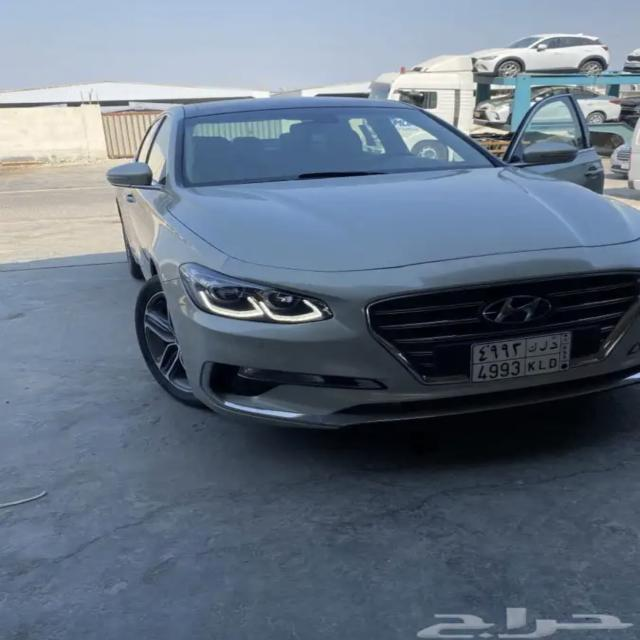license_plate: (470, 331, 572, 378)
